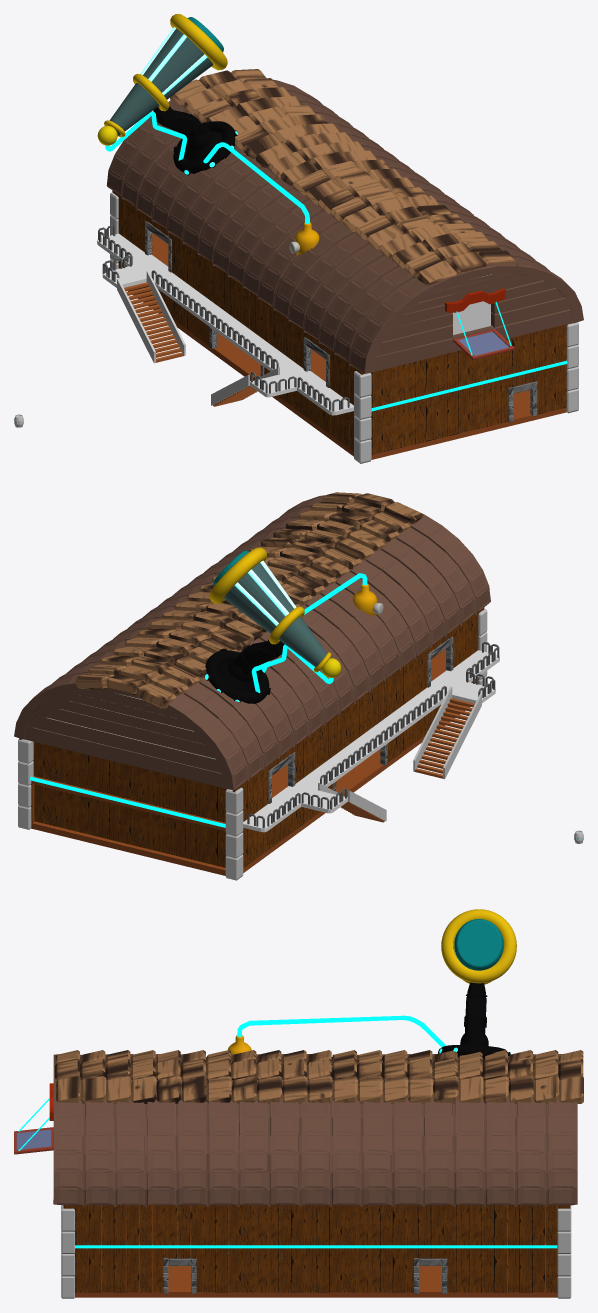
File: main_building_final.fbx
3 views of the same model, one above another, from view 1: azimuth 30°, elevation 25°; view 2: azimuth 150°, elevation 25°; view 3: azimuth 270°, elevation 25° (orthographic).
Visible parts, largest first — view 1: Cylinder, Cube.033, Cube.002, Cube.093, Cone, Cube.001, Cube.092, Cube.128, Cube.006, Torus, Cylinder.006, Cylinder.010 (+11 smaller); view 2: Cylinder, Cube.033, Cube.002, Cube.093, Cone, Cube.001, Cube.092, Cube.128, Cube.009, Cube.007, Torus, Cylinder.006 (+10 smaller); view 3: Cylinder, Cube.033, Cube.002, Cube.001, Cube.092, Torus, Cylinder.008, Cone, Cylinder.010, Cylinder.006, Cylinder.005, Cube.014 (+1 smaller).
Boxes of the visible parts, <box> form: Cylinder: <box>106,79,583,373</box>; Cube.033: <box>112,190,572,454</box>; Cube.002: <box>170,69,517,285</box>; Cube.093: <box>97,233,353,415</box>; Cone: <box>109,17,223,135</box>; Cube.001: <box>128,290,566,459</box>; Cube.092: <box>110,192,578,463</box>; Cube.128: <box>98,225,349,411</box>; Cube.006: <box>124,282,183,362</box>; Torus: <box>104,14,227,137</box>; Cylinder.006: <box>153,106,222,160</box>; Cylinder.010: <box>203,142,319,255</box>; Cylinder: <box>14,494,490,790</box>; Cube.033: <box>19,608,484,867</box>; Cube.002: <box>75,492,423,708</box>; Cube.093: <box>243,650,499,832</box>; Cone: <box>213,550,326,667</box>; Cube.001: <box>31,705,469,875</box>; Cube.092: <box>18,609,487,880</box>; Cube.128: <box>247,642,499,827</box>; Cube.009: <box>415,698,474,778</box>; Cube.007: <box>31,649,446,830</box>; Torus: <box>209,547,331,672</box>; Cylinder.006: <box>218,639,284,691</box>; Cylinder: <box>53,1054,577,1207</box>; Cube.033: <box>63,1204,570,1292</box>; Cube.002: <box>55,1050,583,1103</box>; Cube.001: <box>75,1252,557,1297</box>; Cube.092: <box>61,1205,571,1298</box>; Torus: <box>441,909,516,984</box>; Cylinder.008: <box>18,1098,557,1248</box>; Cone: <box>453,919,503,970</box>; Cylinder.010: <box>228,1015,446,1054</box>; Cylinder.006: <box>460,982,488,1046</box>; Cylinder.005: <box>14,1127,53,1154</box>; Cube.014: <box>413,1258,447,1293</box>.
Size of the model in its own units: 4124 by 2588 by 4530.
